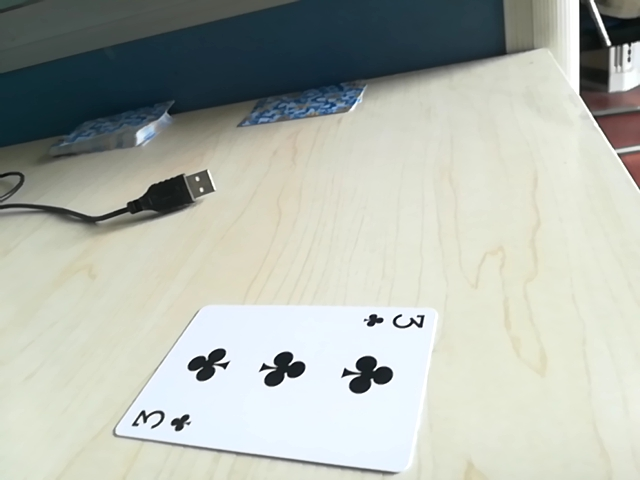mh 3: (123, 406, 193, 438), (358, 307, 426, 333)
